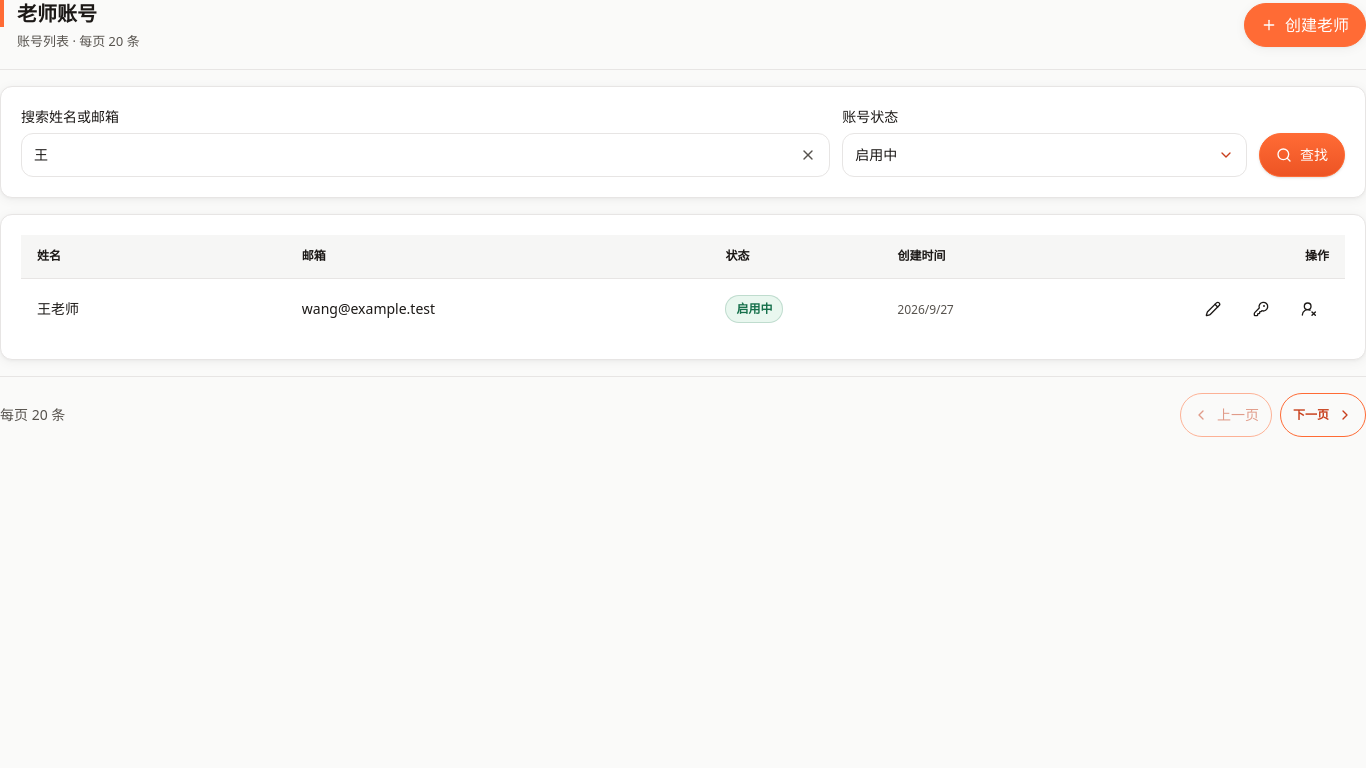
Test: teacher edit opens a focused dialog and preserves teacher list navigation
Expected: the search field labelled "搜索姓名或邮箱" holds "王", 21,133 -> 830,177
Expected: the dropdown named "账号状态" reads "启用中", 842,133 -> 1247,177
Click the button named "编辑王老师".
click(1213, 309)  # box 1193,287 -> 1233,331
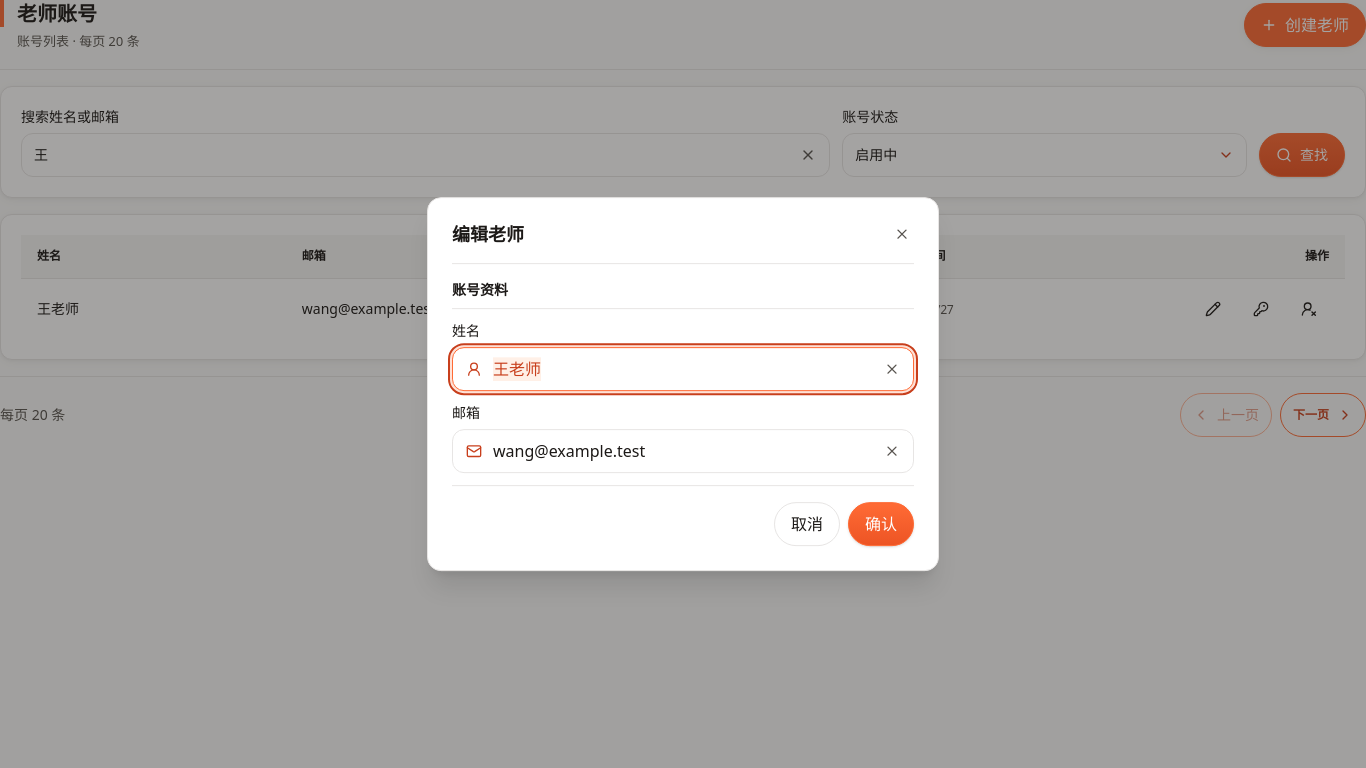
Now the heading "账号资料" is shown, box 452,280 -> 914,309
Now the field labelled "姓名" holds "王老师", box 452,347 -> 914,391
Now the field labelled "邮箱" holds "wang@example.test", box 452,429 -> 914,473
Click the button named "关闭对话框".
click(902, 234)  # box 882,214 -> 922,254
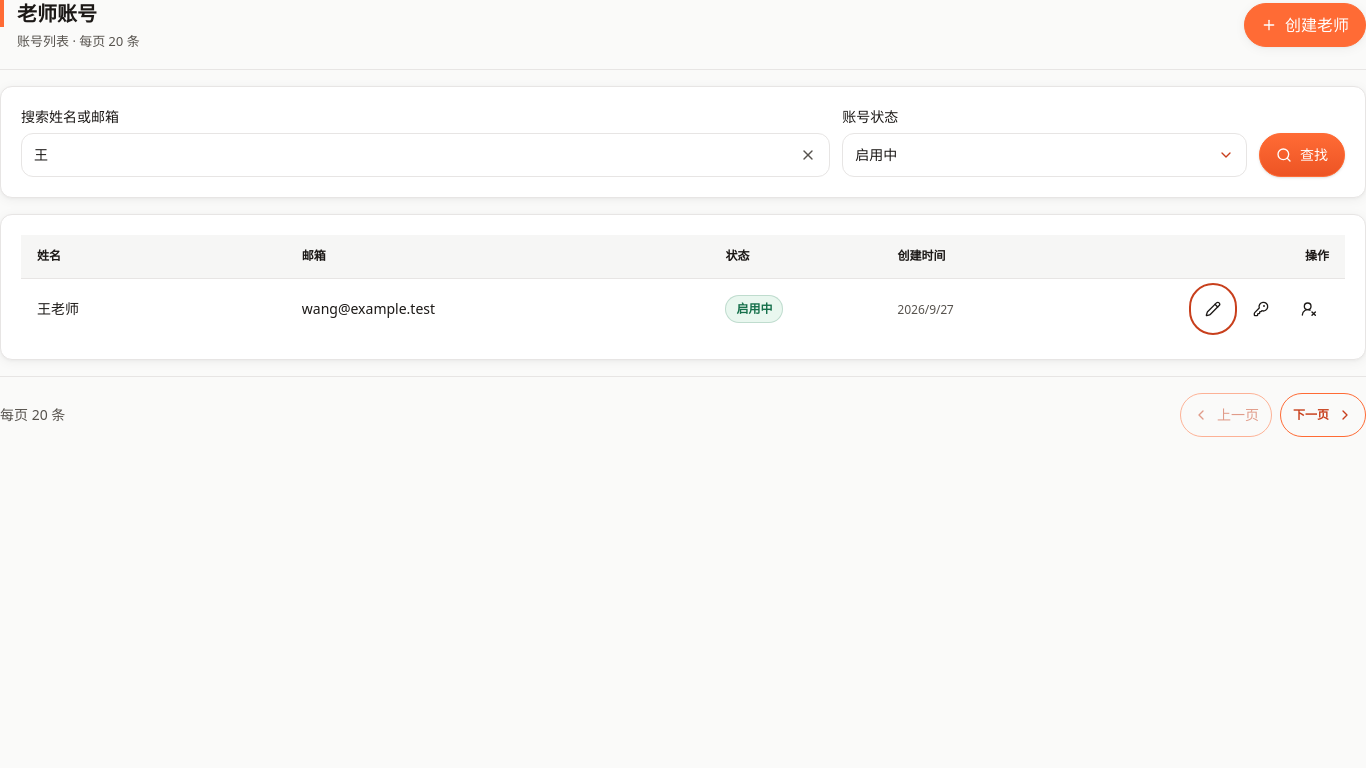
Now the heading "编辑老师" is gone
Click the button named "修改王老师密码".
click(1261, 309)  # box 1241,287 -> 1281,331
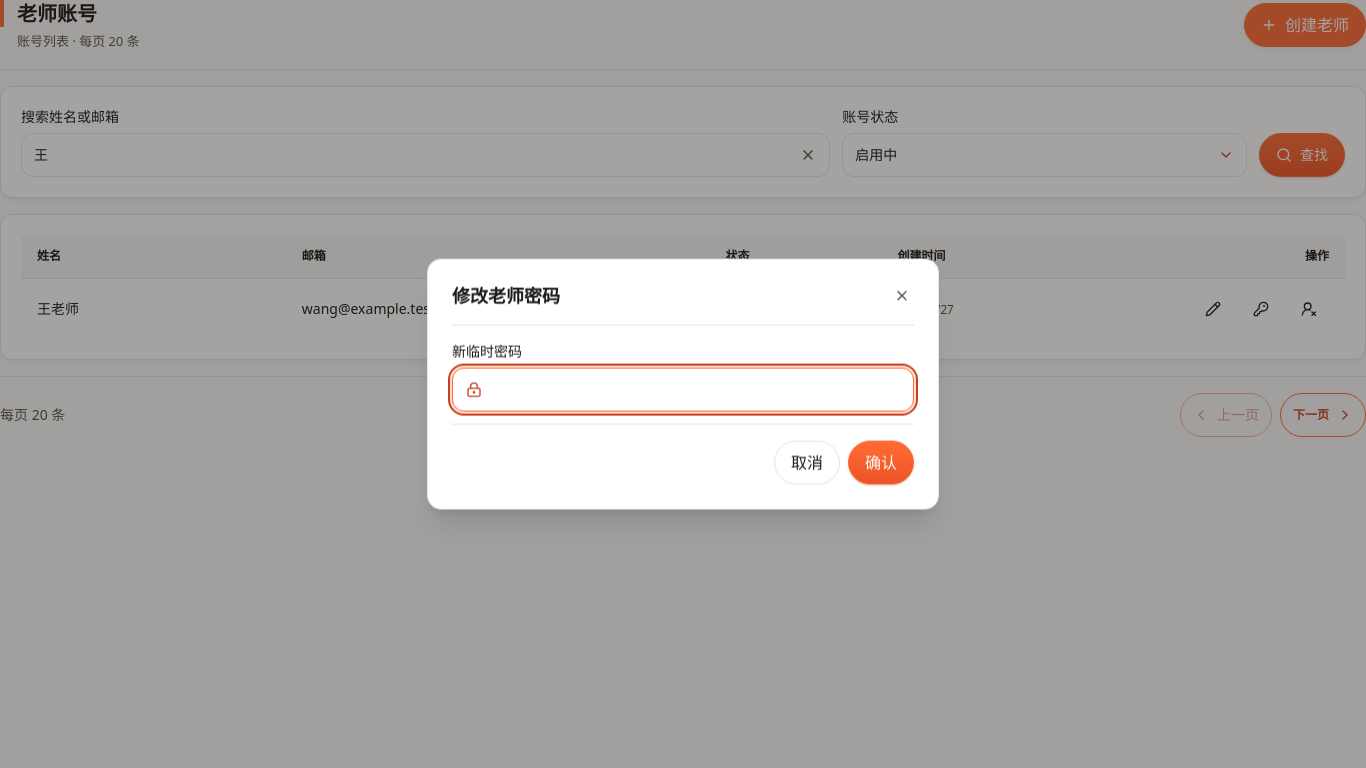
Now the button "确认" is shown, box 848,440 -> 914,484
Now the button "取消" is shown, box 774,440 -> 840,484
